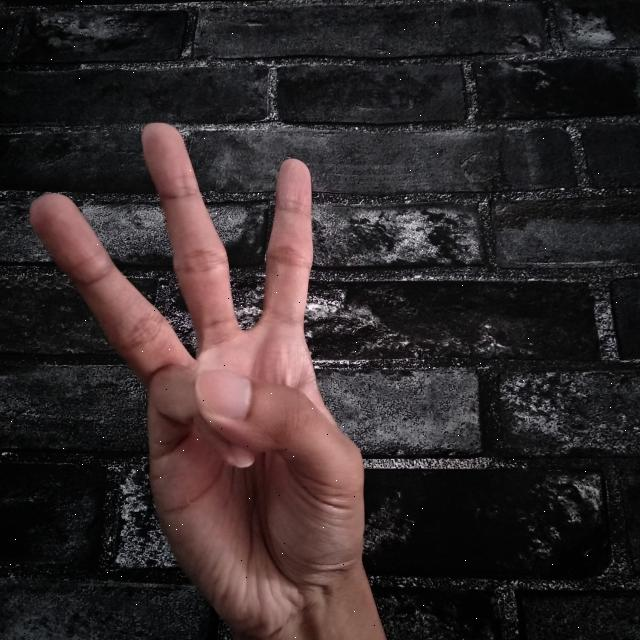W: (12, 112, 396, 640)
